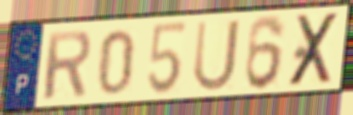0: (97, 27, 138, 96)
5: (145, 19, 189, 97)
6: (243, 12, 286, 92)
R: (41, 28, 93, 102)
U: (191, 17, 242, 94)
X: (286, 10, 343, 90)
